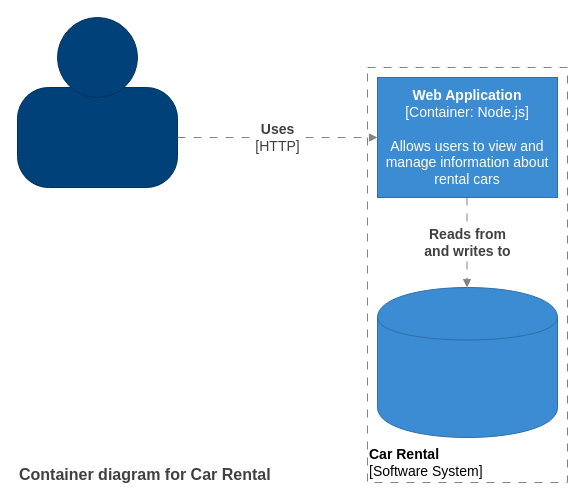
The diagram is 585 pixels wide and 502 high, and some of its shapes have lost their labels. The shapes that lost their labels are listed below. From the top down, each one's centre as x and y in pixels, then its label:
(97,137): User [Person] Car rental manager
(467,362): Database [Container: SQLite] Stores information about rental cars and clients
